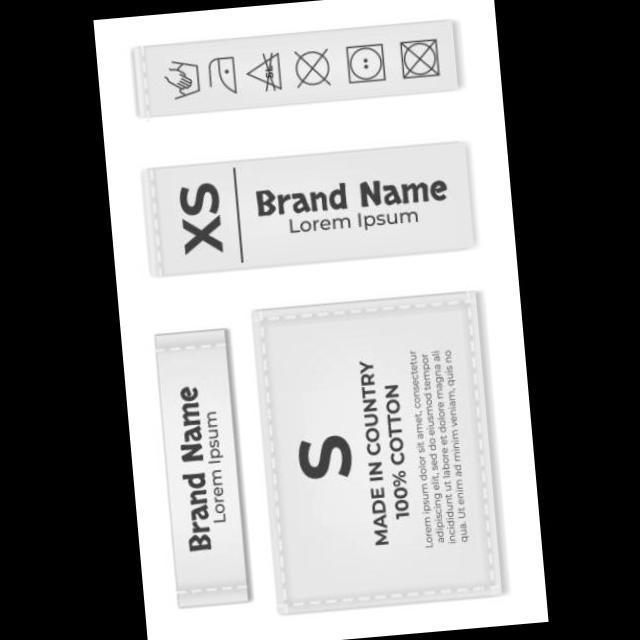DN_bleach: (239, 47, 285, 95)
DN_dry_clean: (288, 42, 334, 92)
DN_tumble_dry: (396, 34, 442, 80)
hand_wash: (157, 51, 203, 102)
iron_low: (203, 51, 240, 96)
tumble_dry_medium: (341, 37, 389, 89)
